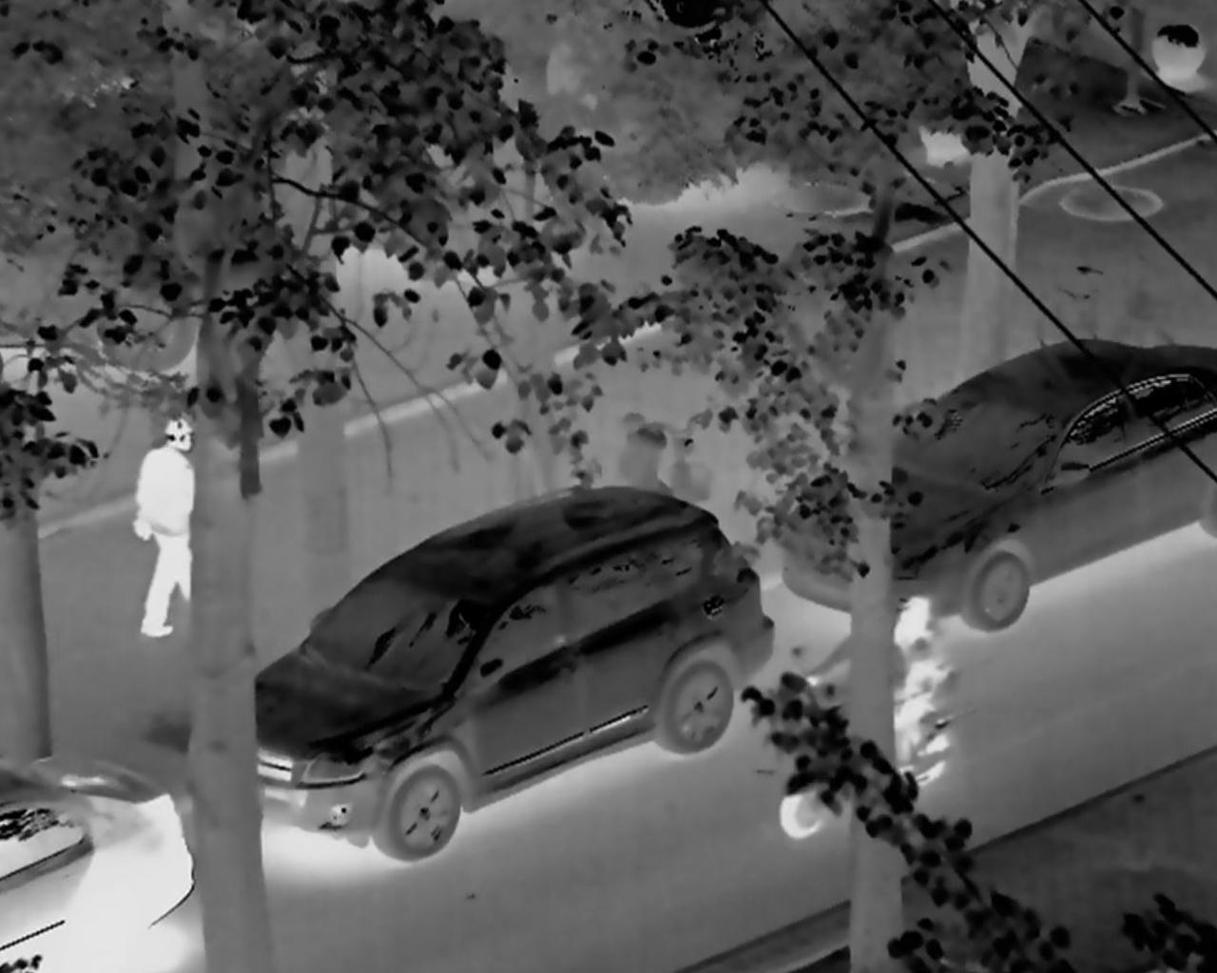person: (795, 585, 962, 834), (120, 413, 219, 641)
